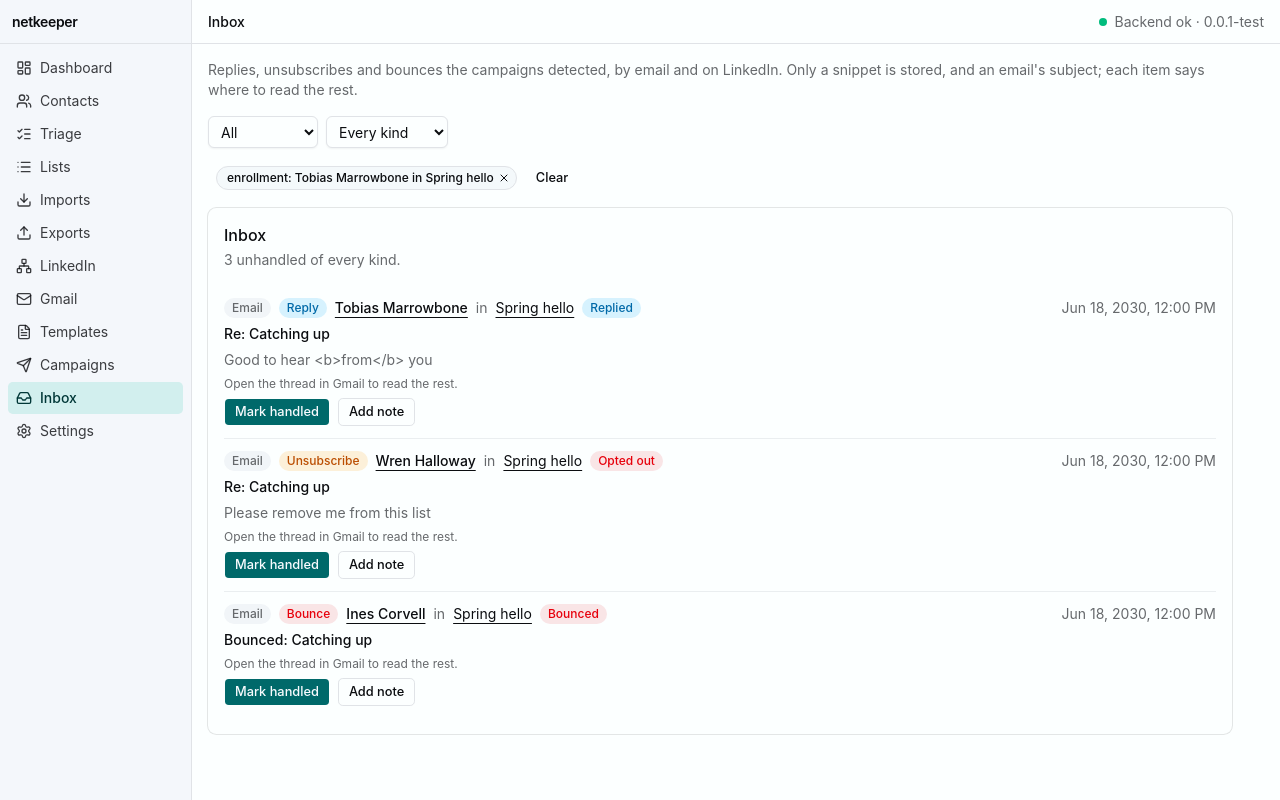
Test: inbox › keeps the kind but goes back to Unhandled when the enrollment chip goes
Check: the navigation bar named "Primary" is shown, box [0,44,191,455]
Check: the list item with aria-label "Reply from Tobias" is shown, box [224,286,1216,438]
Select "Bounce" in the dropdown named "Kind" at (387, 132), box [326,116,448,148]
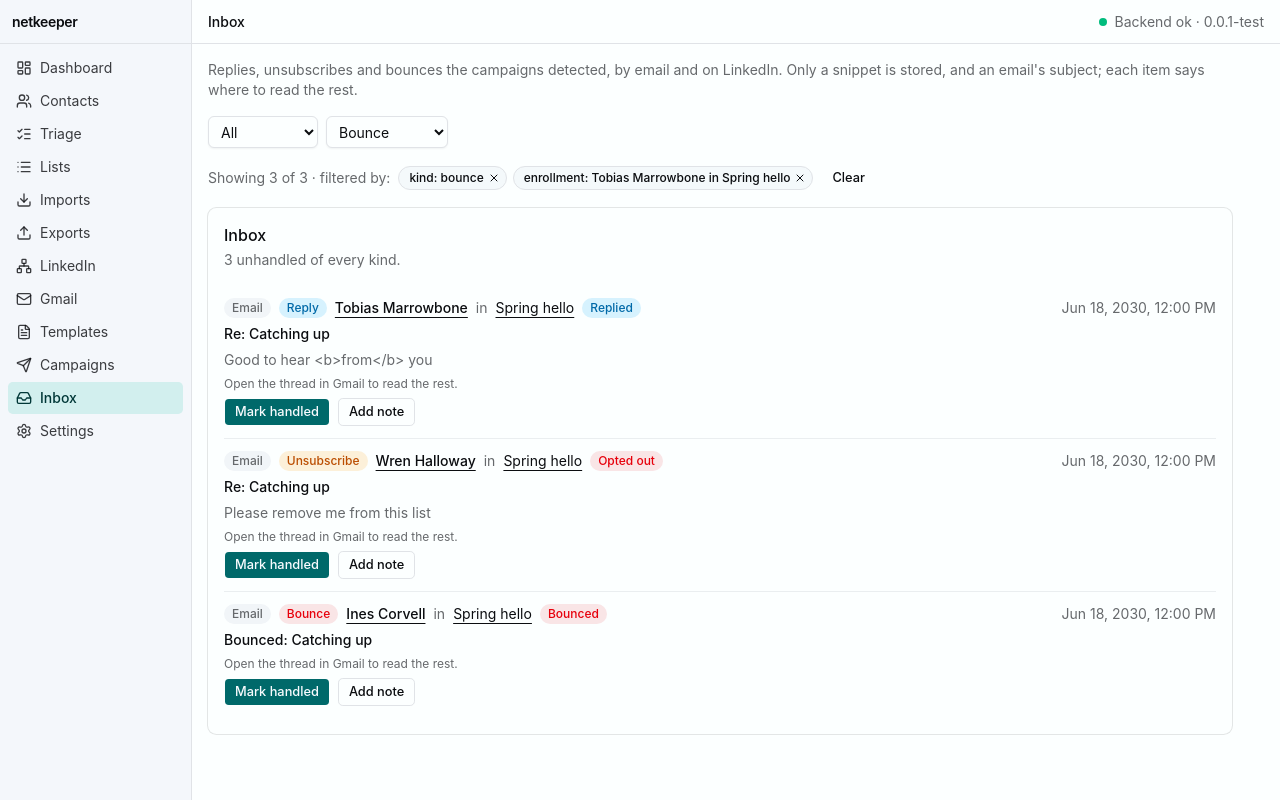
Click the button with aria-label "Remove enrollment: Tobias Marrowbone in Spring hello" at (663, 178), box [513,166,814,190]
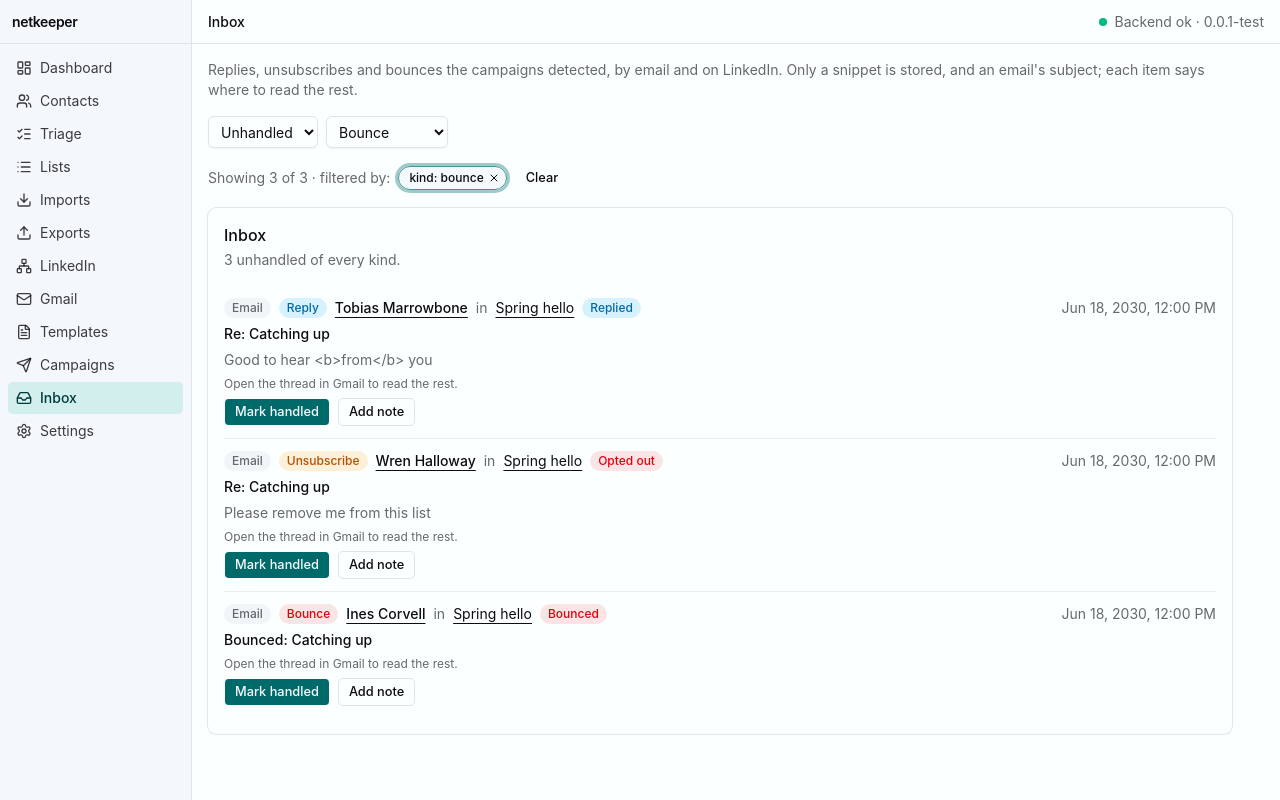
Check: the button with aria-label "Remove kind: bounce" is shown, box [398,166,507,190]
Check: the dropdown named "Show" shows "Unhandled", box [208,116,318,148]
